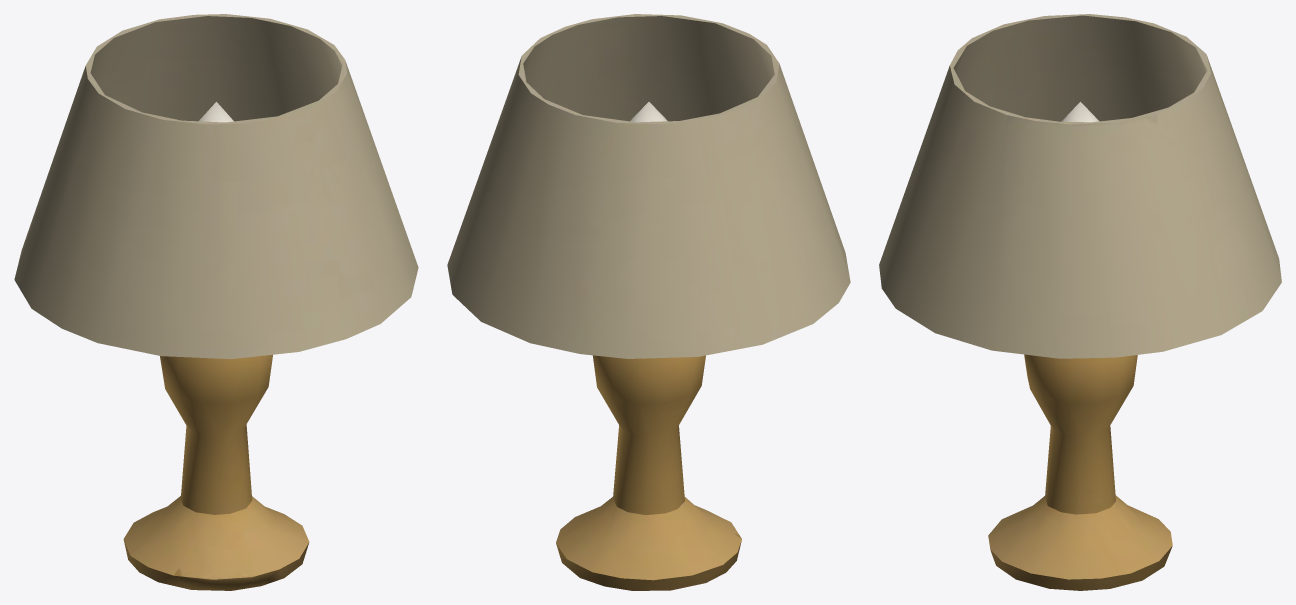
File: table_lamp-low.glb
3 renders of one model, left to right at view 1: azimuth 30°, elevation 25°; view 2: azimuth 150°, elevation 25°; view 3: azimuth 270°, elevation 25°, orthographic.
Parts seen in each view (by area): view 1: table_lamp-low; view 2: table_lamp-low; view 3: table_lamp-low.
Part boxes in pixels (x1=…): table_lamp-low: x1=14, y1=14, x2=418, y2=590; table_lamp-low: x1=447, y1=14, x2=850, y2=590; table_lamp-low: x1=879, y1=14, x2=1281, y2=590.
Bounding box in the file's own units: 0.3394 × 0.45 × 0.3394.
Materials: 1 (1 with a texture image).
